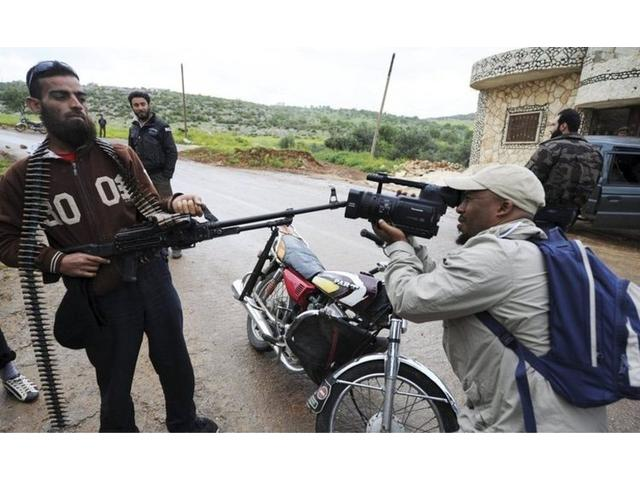rifle: (54, 199, 346, 280)
